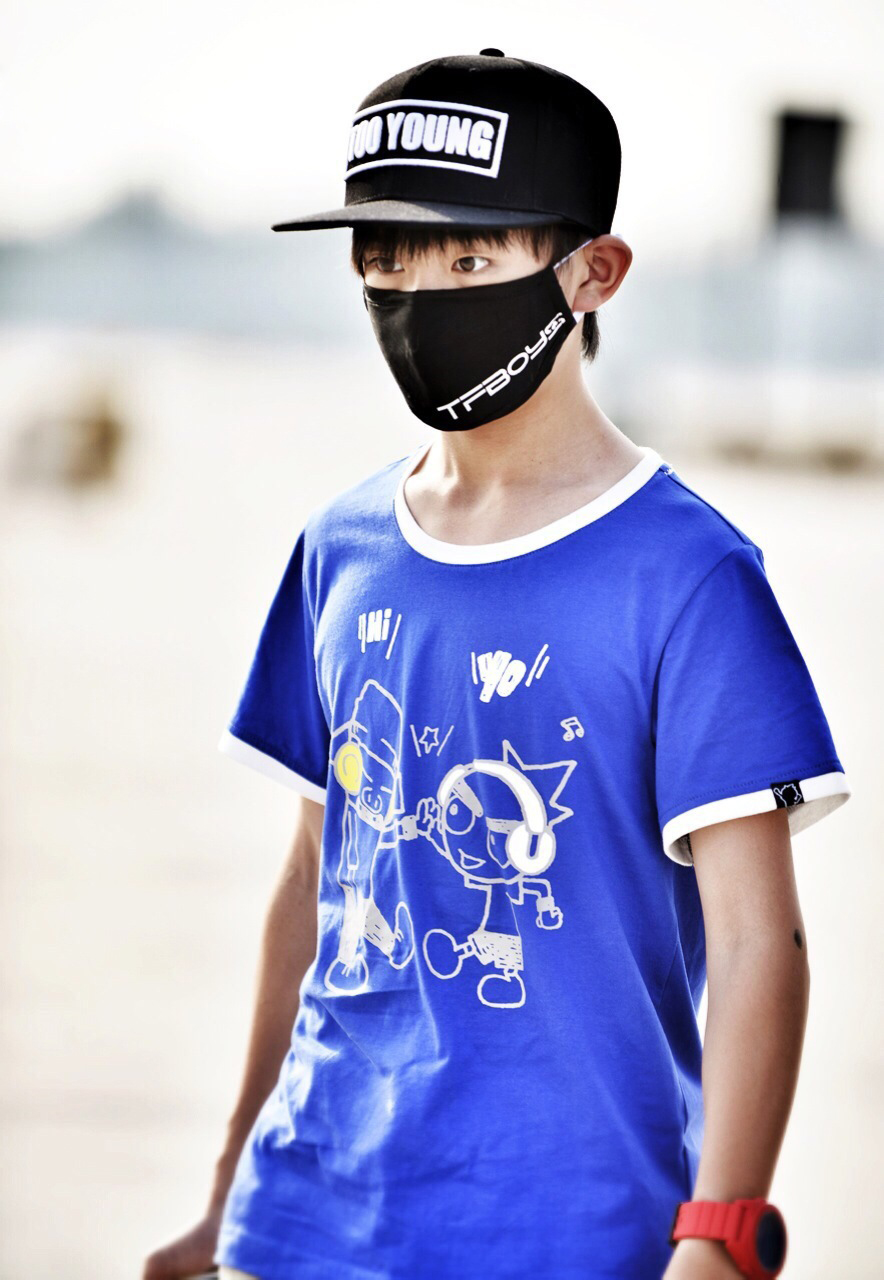face_mask: (358, 195, 555, 425)
